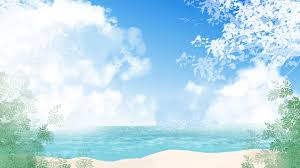beach: (46, 130, 265, 168)
sky: (2, 1, 300, 128)
